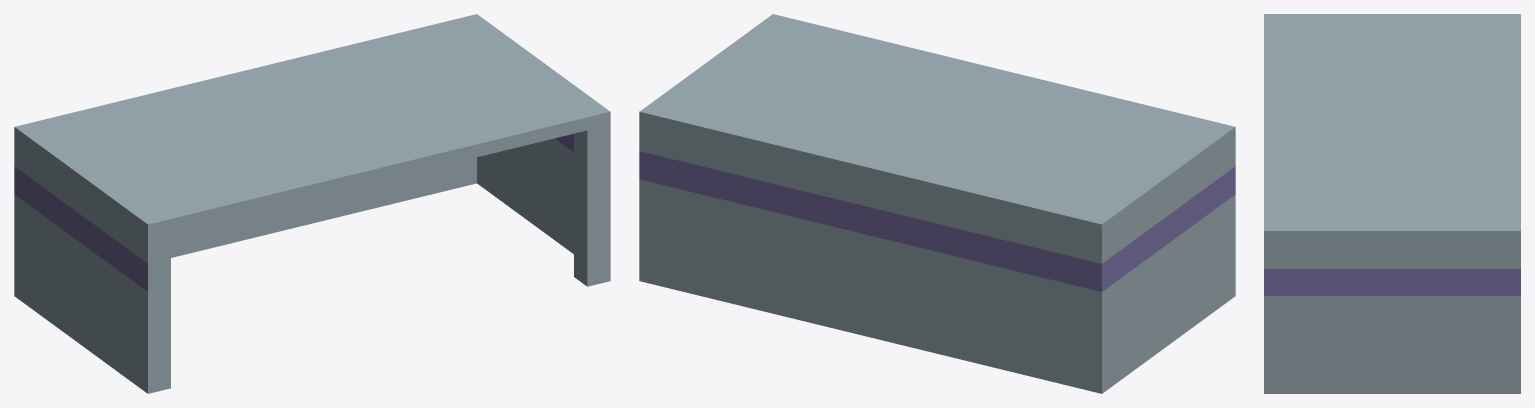
File: tableOffice.glb
3 renders of one model, left to right at view 1: azimuth 30°, elevation 25°; view 2: azimuth 150°, elevation 25°; view 3: azimuth 270°, elevation 25°, orthographic. The views are drawn at different scales.
Parts seen in each view (by area): view 1: kassa; view 2: kassa; view 3: kassa.
Part boxes in pixels (x1,y1,x2,y2): kassa: (14, 14, 610, 393); kassa: (639, 14, 1235, 393); kassa: (1264, 14, 1520, 393).
Bounding box in the file's own units: 2 × 0.7 × 1.
